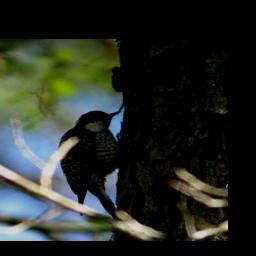Woodpecker: (57, 109, 124, 220)
